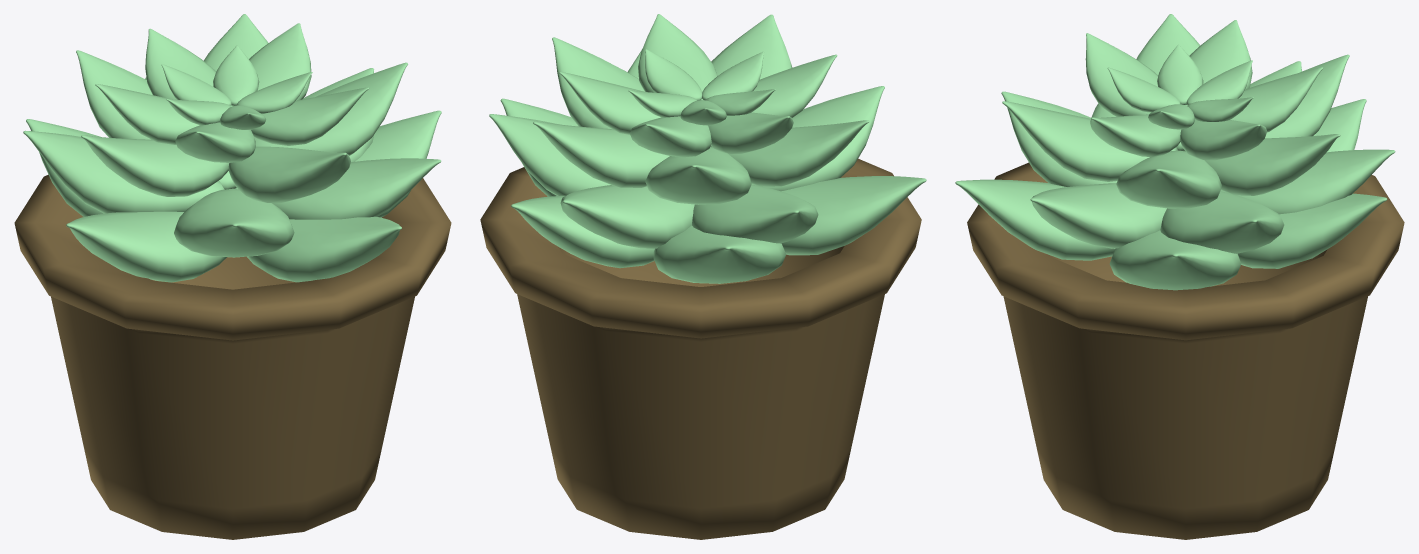
Rendered from succulents.glb.
3 renders of one model, left to right at view 1: azimuth 30°, elevation 25°; view 2: azimuth 150°, elevation 25°; view 3: azimuth 270°, elevation 25°, orthographic.
Visible parts, largest first — view 1: Cylinder.001, Plant; view 2: Cylinder.001, Plant; view 3: Cylinder.001, Plant.
Boxes of the visible parts, bbox=[...] form: Cylinder.001: bbox=[14, 174, 451, 539]; Plant: bbox=[23, 14, 441, 282]; Cylinder.001: bbox=[480, 158, 921, 539]; Plant: bbox=[489, 14, 926, 283]; Cylinder.001: bbox=[967, 162, 1404, 539]; Plant: bbox=[955, 14, 1395, 290].
Bounding box in the file's own units: 5.33 × 5.18 × 5.21.
